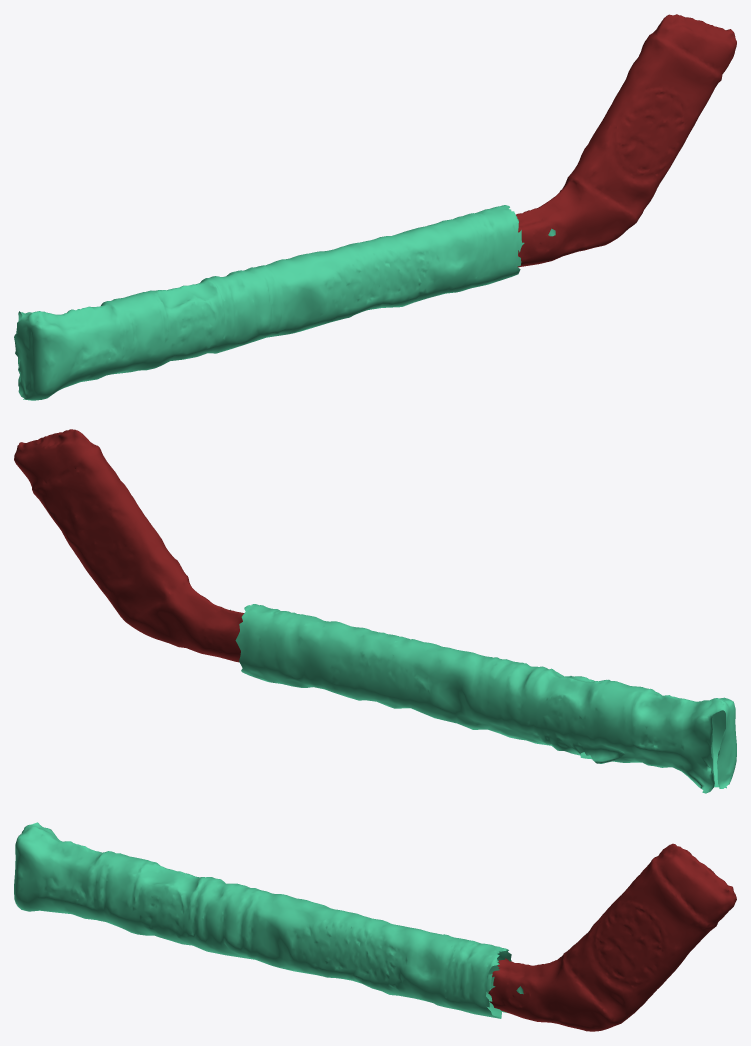
The model's file is object_deformed_6.obj.
The picture shows the model from 3 angles, top to bottom: view 1: azimuth 30°, elevation 25°; view 2: azimuth 150°, elevation 25°; view 3: azimuth 330°, elevation 25°; orthographic projection. The views are drawn at different scales.
Bounding box in the file's own units: 0.6063 × 0.1733 × 0.0541.
